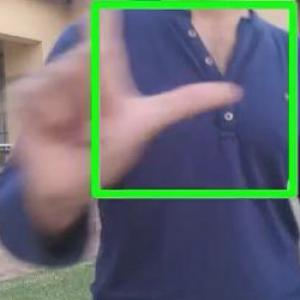land_hand: (0, 0, 250, 211)
